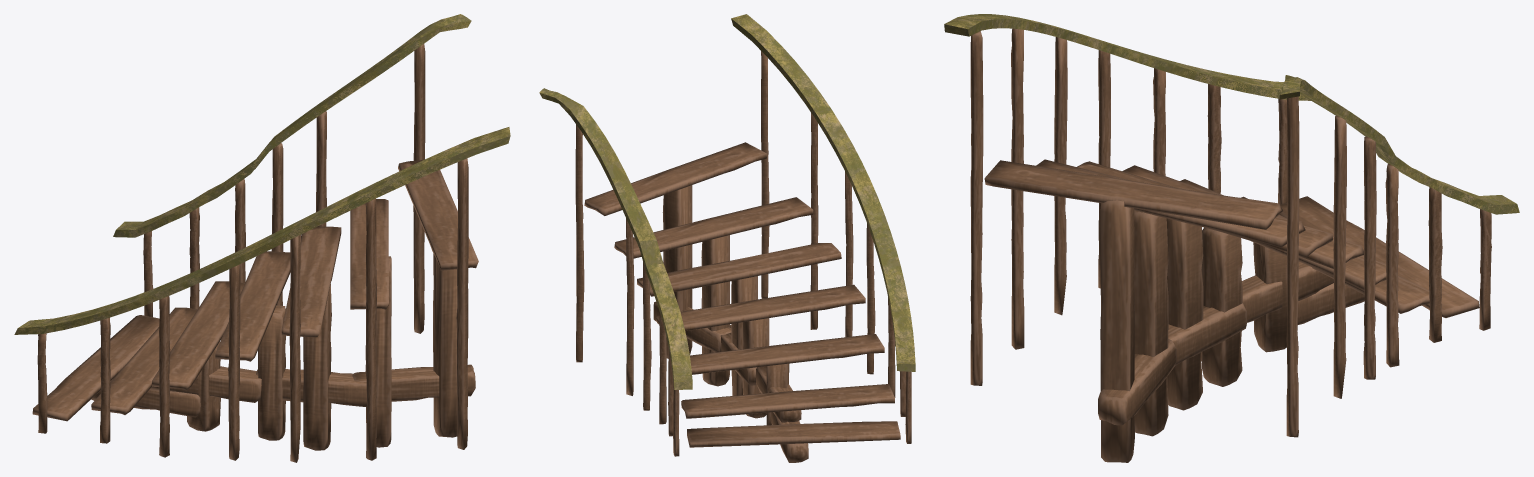
The model's file is SM_curved_stairs.fbx.
3 views of the same model, side by side, from view 1: azimuth 30°, elevation 25°; view 2: azimuth 150°, elevation 25°; view 3: azimuth 270°, elevation 25° (orthographic). The views are drawn at different scales.
Visible parts, largest first — view 1: curved_stairs; view 2: curved_stairs; view 3: curved_stairs.
Part boxes in pixels (x1,y1,x2,y2): curved_stairs: (14, 14, 510, 462); curved_stairs: (539, 14, 915, 462); curved_stairs: (944, 14, 1519, 462).
Bounding box in the file's own units: 624 × 480 × 573.
